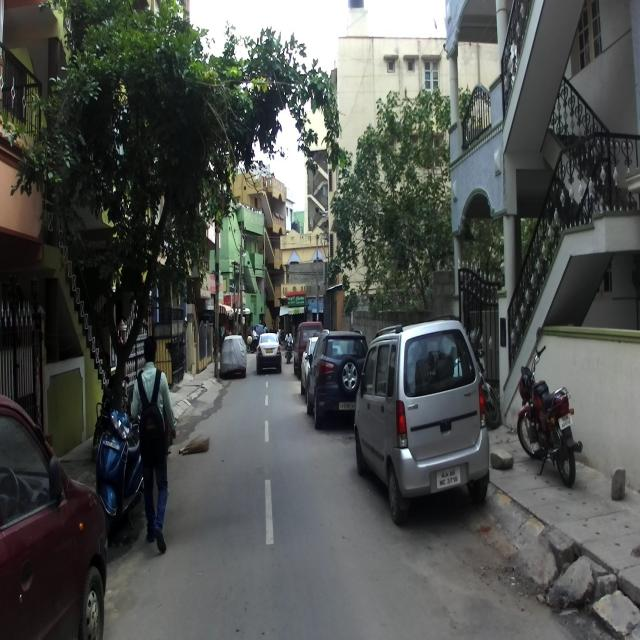Car: (220, 333, 248, 376)
Car_Ford: (304, 328, 368, 430)
Car_Maruti-Suzuki: (354, 318, 489, 525), (0, 395, 108, 639), (255, 326, 282, 373)
motorcycle_Hero: (516, 326, 582, 488)
scooter: (95, 384, 144, 540)
